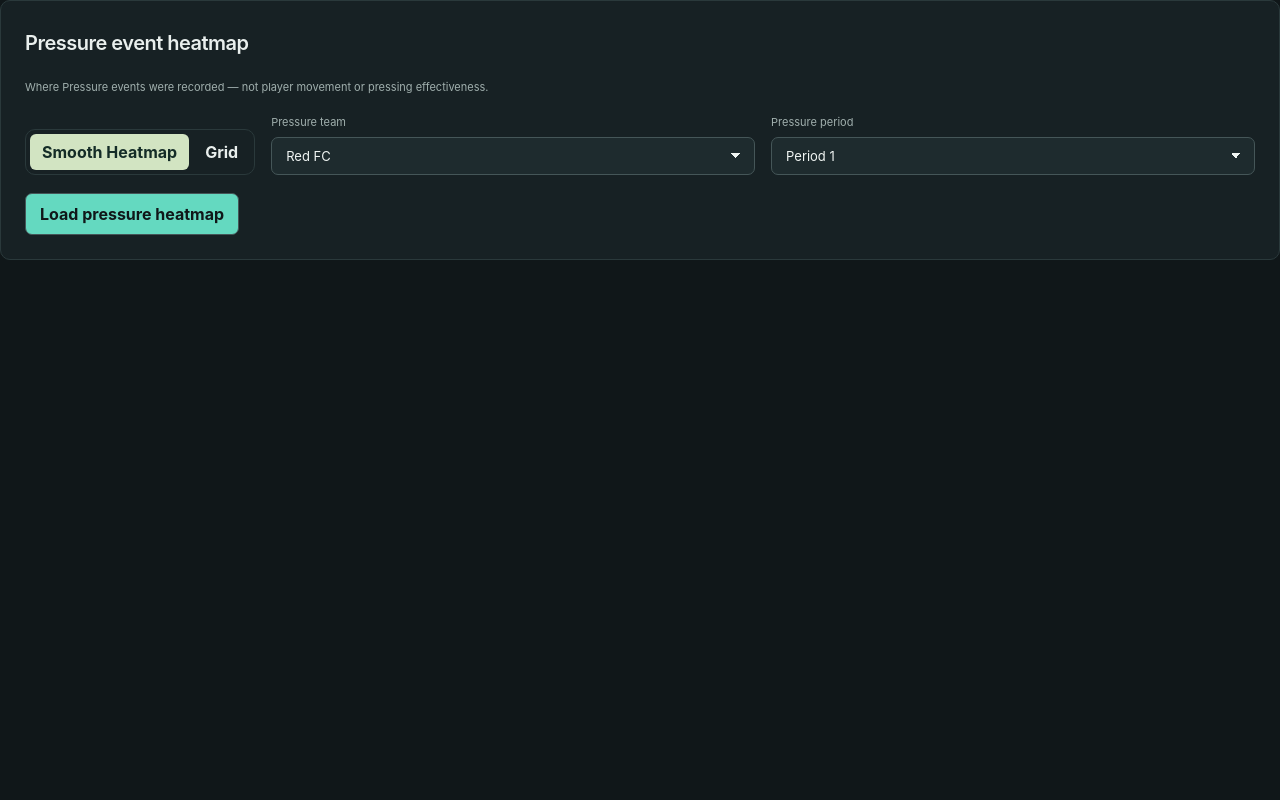
shows safe errors and supports retry without silently showing empty data
Click the button "Grid".
click(222, 152)  # box [193, 134, 250, 170]
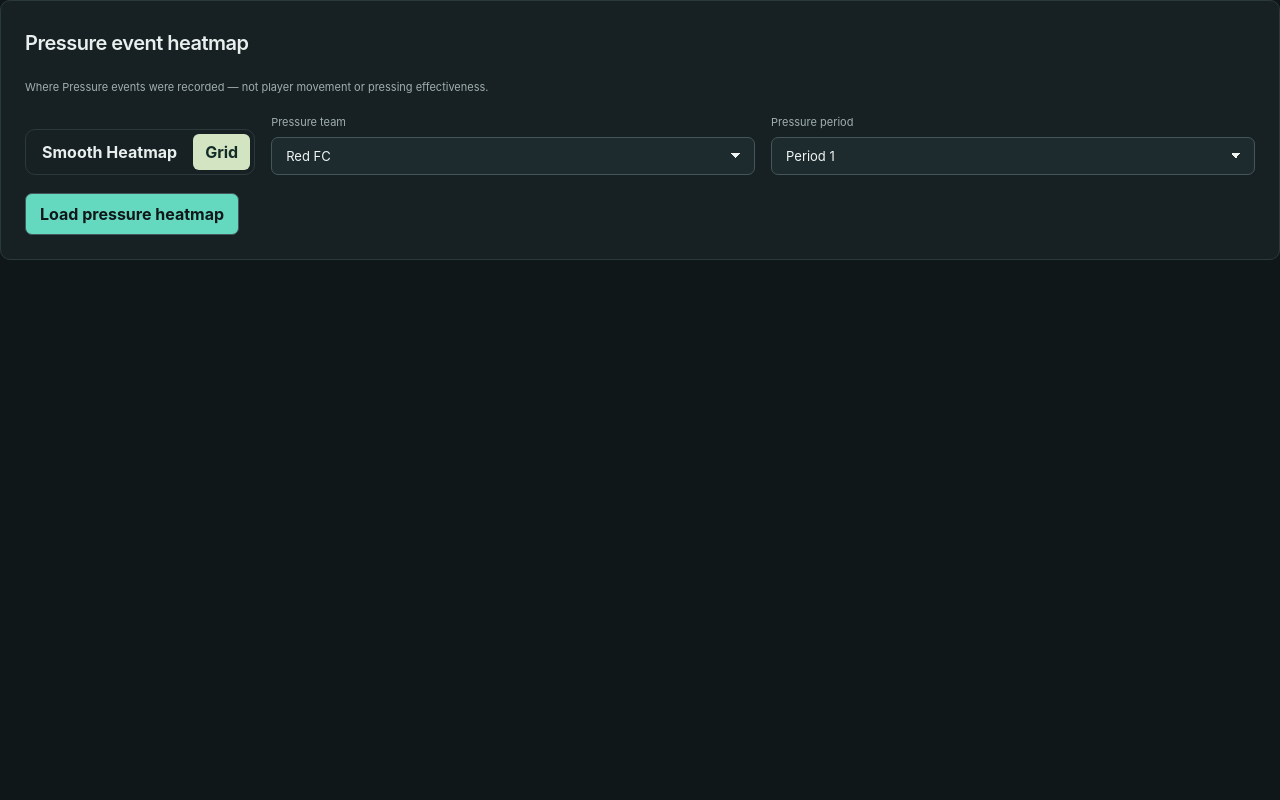
Click the button "Load pressure heatmap".
click(132, 214)  # box [25, 193, 239, 235]
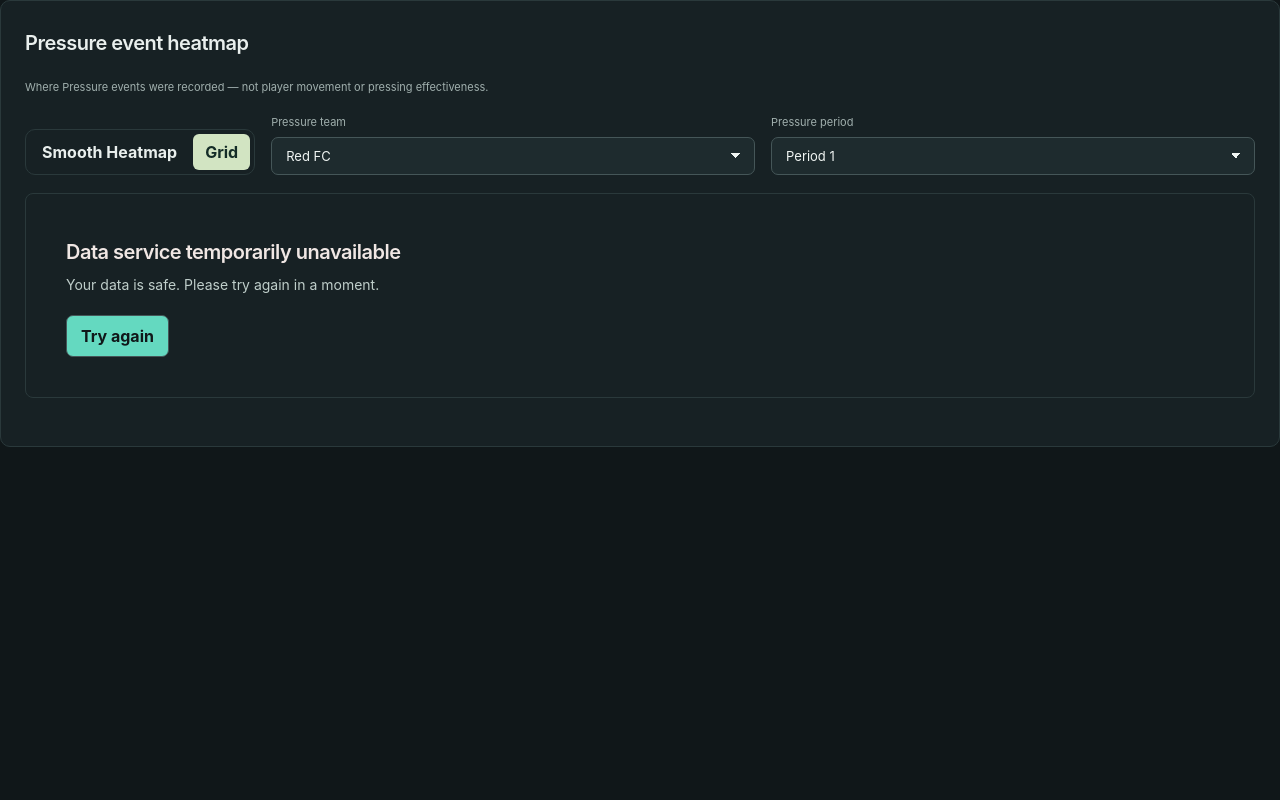
Expected: the message shows "Data service temporarily unavailable", [66, 240, 400, 264]
Click the button "Try again".
click(118, 336)  # box [66, 315, 169, 357]
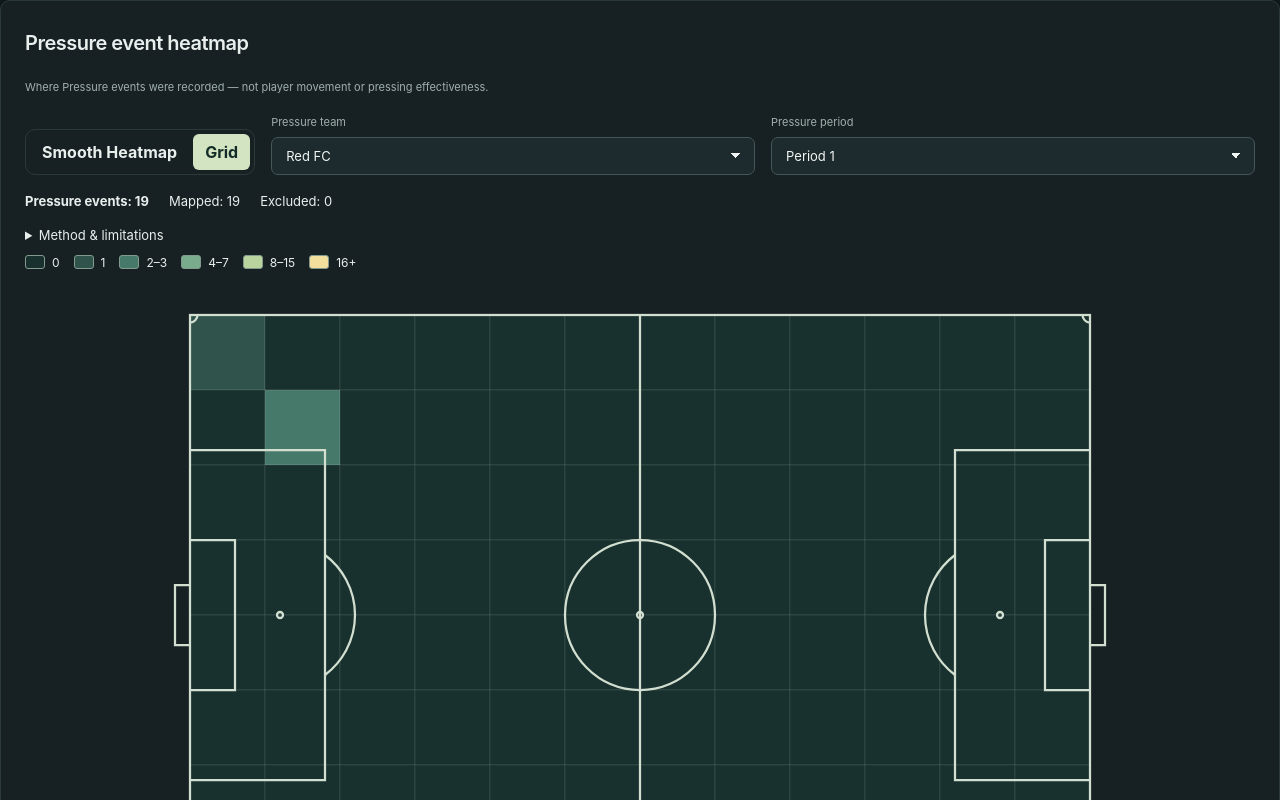
Expected: the message "Pressure events: 19 Mapped: 19 Excluded: 0" is shown, [25, 193, 332, 209]
